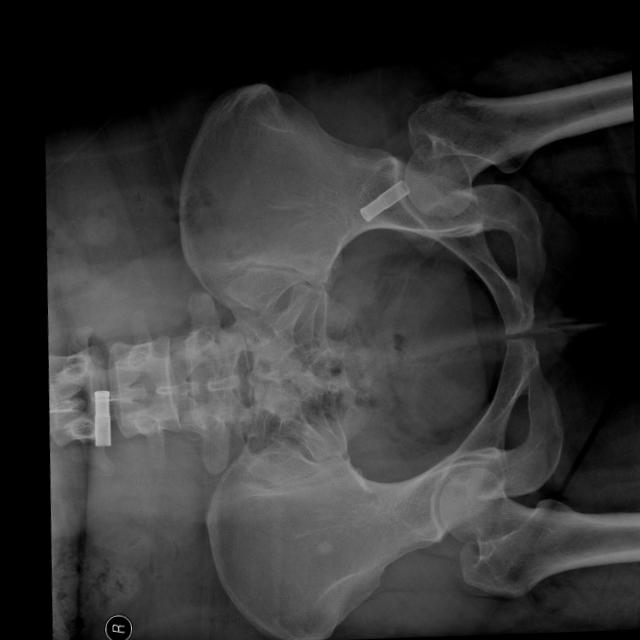normal-left: (405, 69, 633, 216)
normal-right: (439, 466, 640, 596)
